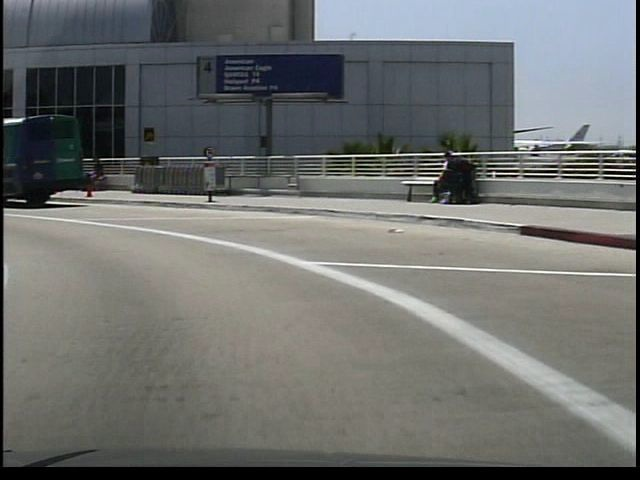person: (83, 153, 105, 197)
